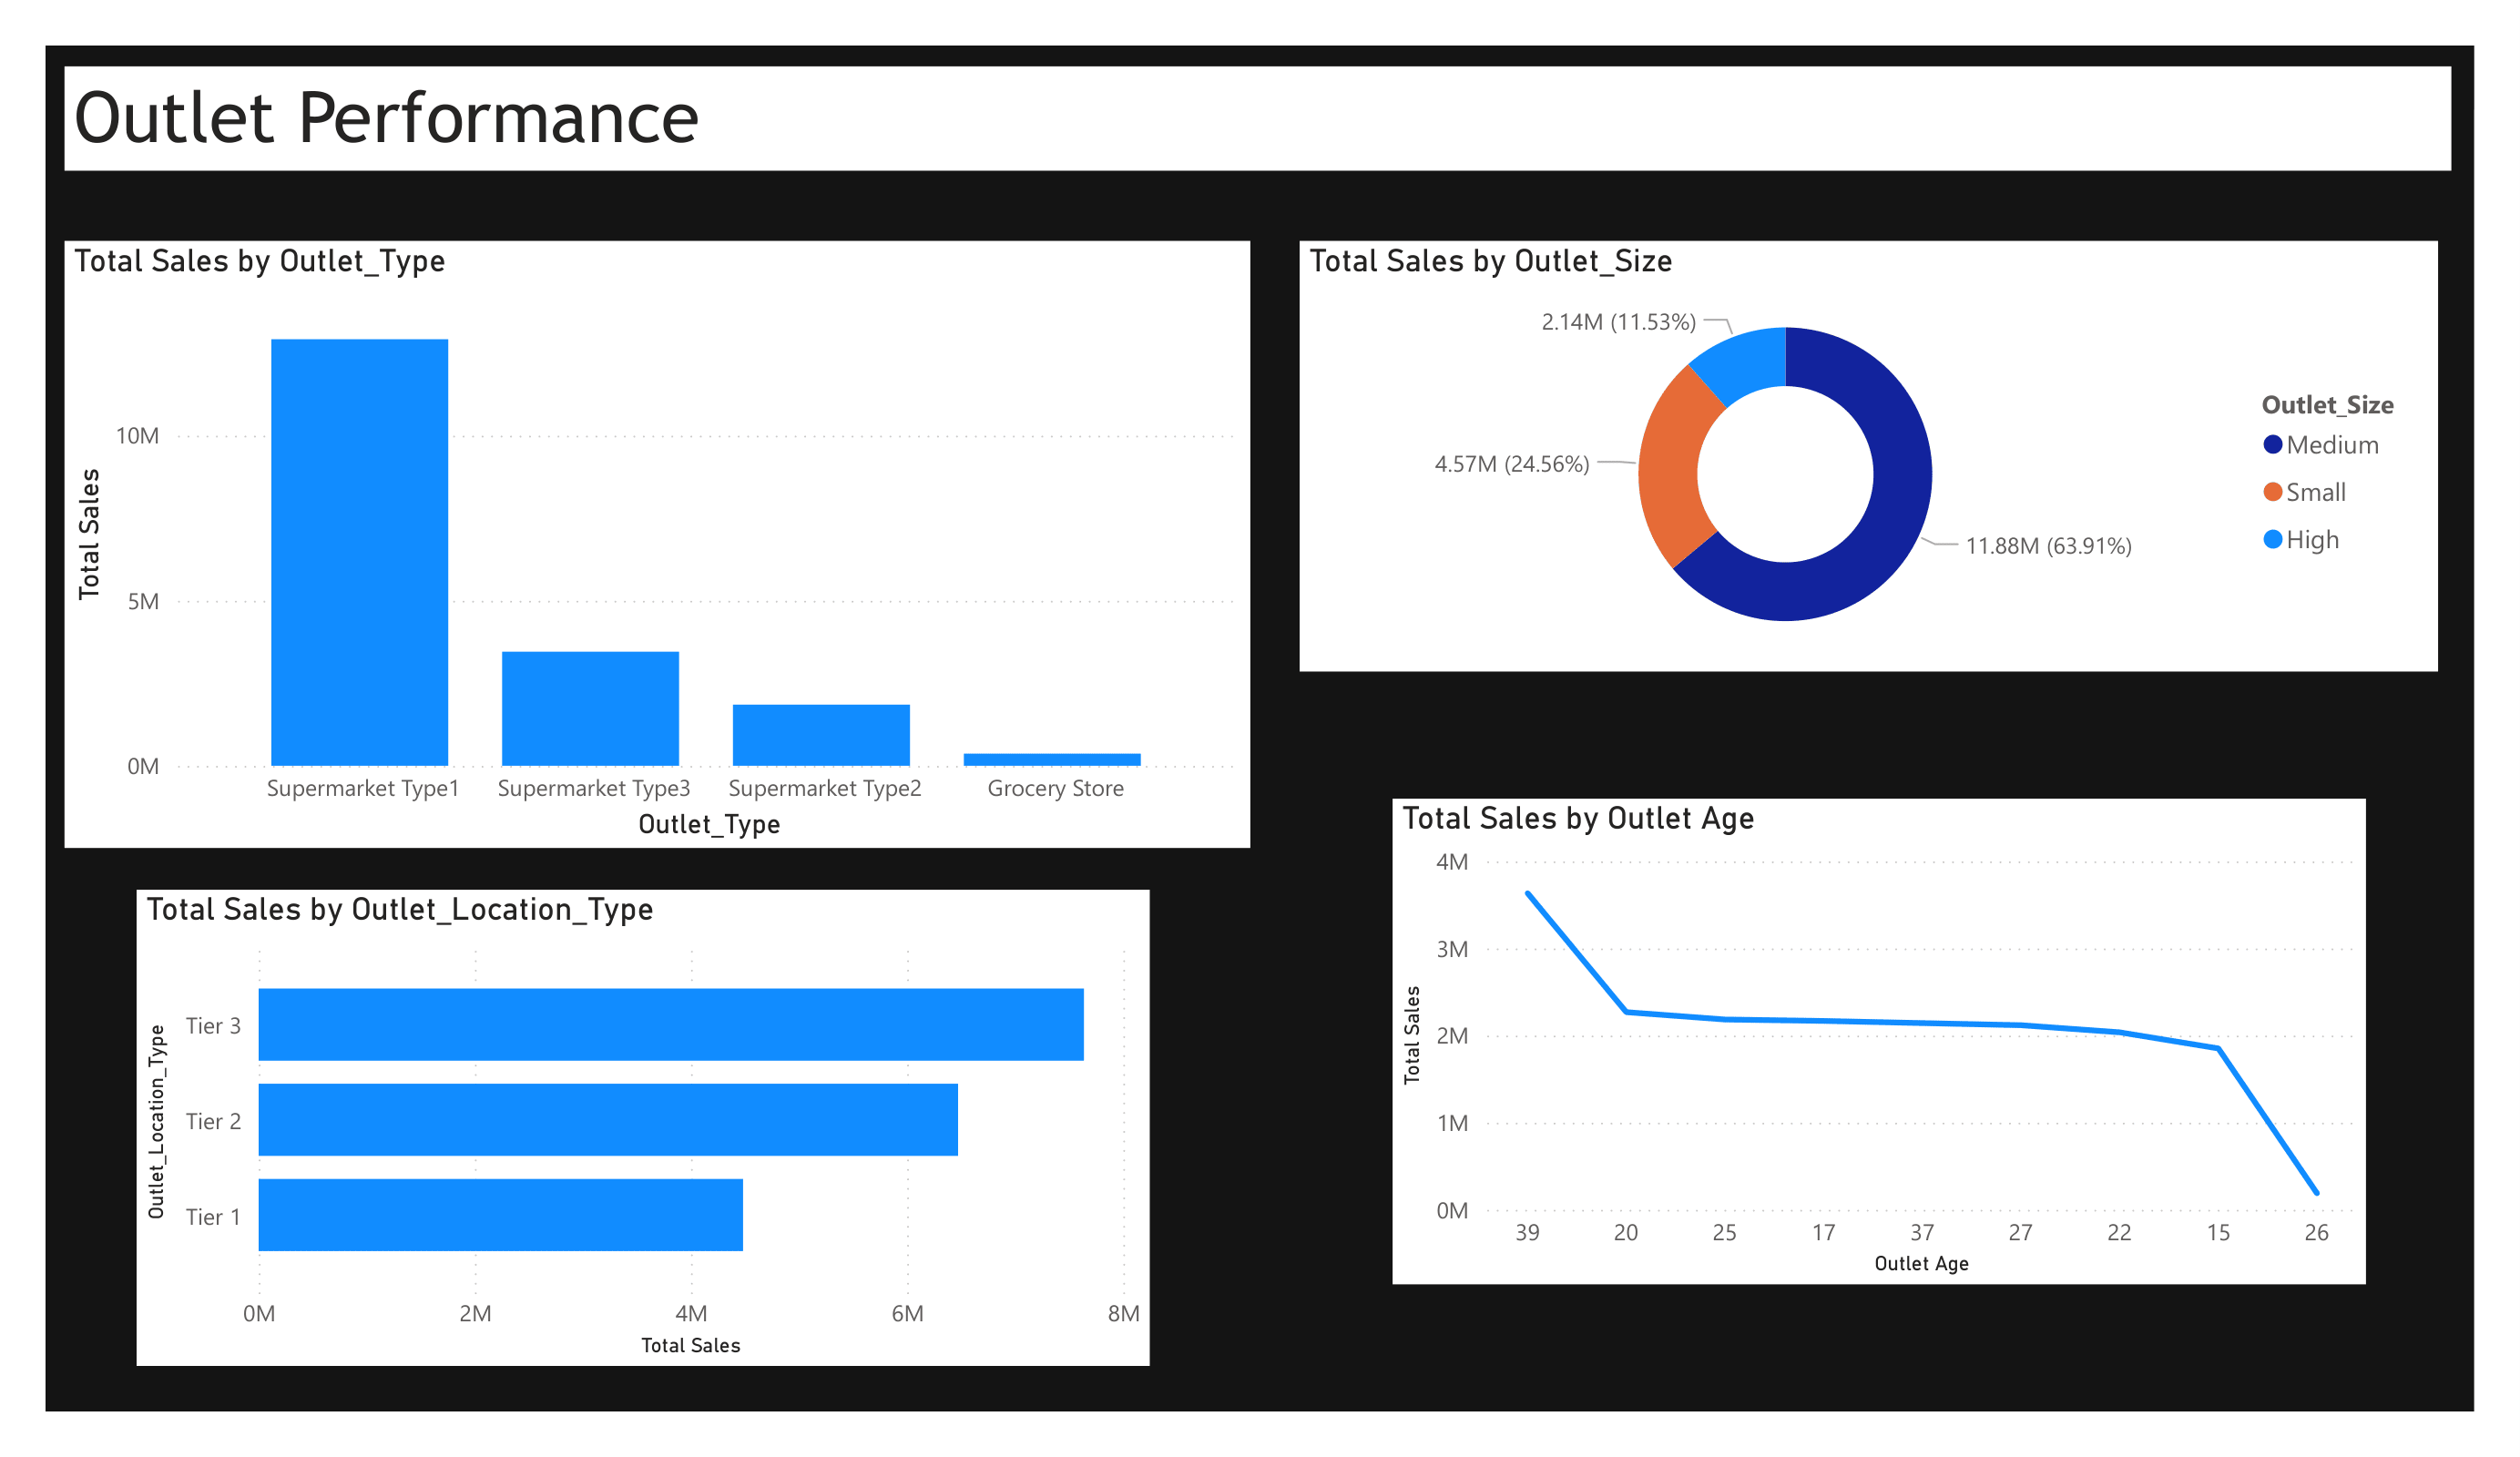

This screenshot's page, from the dashboard's own definition file:
{"tool":"powerbi","page":{"name":"Page 3","canvas":[1280,720],"ordinal":2},"visuals":[{"type":"textbox","box":[9.6,10.6,1258.5,55.3],"z":0},{"type":"clusteredColumnChart","fields":{"Category":["Tableau BlinkIT Grocery Project.Outlet_Type"],"Y":["Tableau BlinkIT Grocery Project.Total Sales"]},"box":[9.6,103.2,625.5,320.2],"z":1},{"type":"donutChart","fields":{"Category":["Tableau BlinkIT Grocery Project.Outlet_Size"],"Y":["Tableau BlinkIT Grocery Project.Total Sales"]},"box":[660.6,103.2,600,226.6],"z":2},{"type":"clusteredBarChart","fields":{"Category":["Tableau BlinkIT Grocery Project.Outlet_Location_Type"],"Y":["Tableau BlinkIT Grocery Project.Total Sales"]},"box":[47.9,444.7,534,251.1],"z":3},{"type":"lineChart","fields":{"Category":["Tableau BlinkIT Grocery Project.Outlet Age"],"Y":["Tableau BlinkIT Grocery Project.Total Sales"]},"box":[709.6,396.8,513.8,256.4],"z":4}]}

Visuals, with their boxes in screenshot pixels (x1, y1, x2, y2):
textbox: rect(38, 54, 2482, 161)
clusteredColumnChart - Tableau BlinkIT Grocery Project.Outlet_Type x Tableau BlinkIT Grocery Project.Total Sales: rect(38, 233, 1253, 855)
donutChart - Tableau BlinkIT Grocery Project.Outlet_Size x Tableau BlinkIT Grocery Project.Total Sales: rect(1302, 233, 2467, 673)
clusteredBarChart - Tableau BlinkIT Grocery Project.Outlet_Location_Type x Tableau BlinkIT Grocery Project.Total Sales: rect(113, 896, 1149, 1383)
lineChart - Tableau BlinkIT Grocery Project.Outlet Age x Tableau BlinkIT Grocery Project.Total Sales: rect(1397, 803, 2395, 1301)
